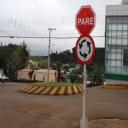Rotatoria: (75, 34, 95, 66)
